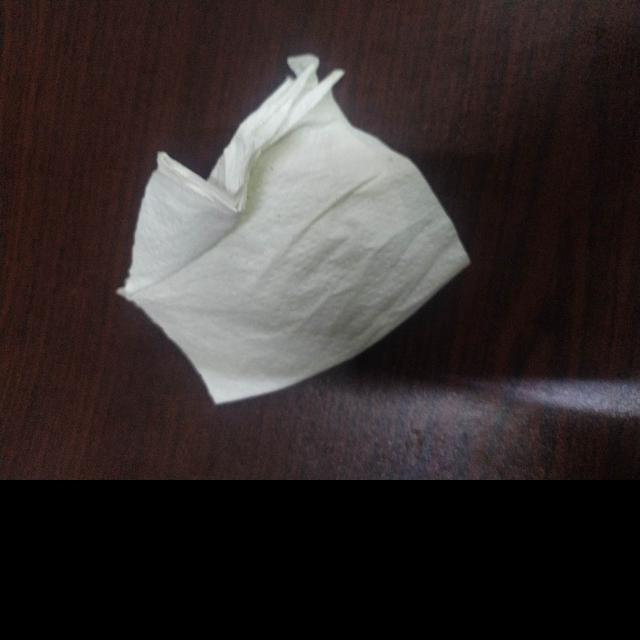kitchen paper: (112, 44, 478, 410)
